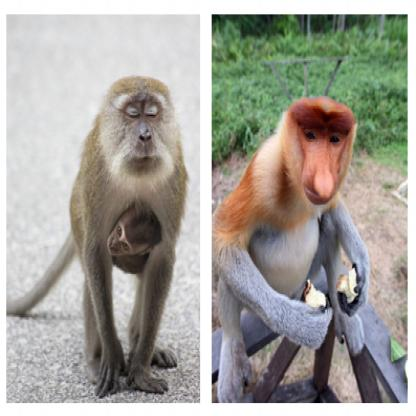monkey: (4, 73, 188, 396)
